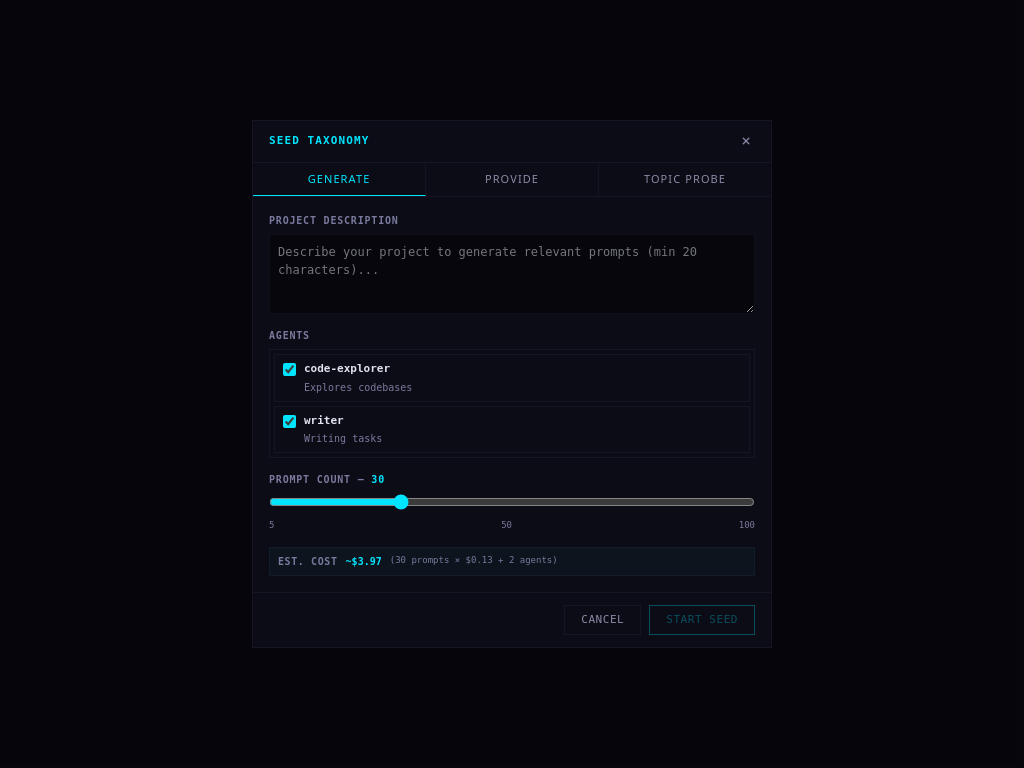
Test: SeedModal › accepts all seed_batch_progress events when no runId filter is set (pre-P3 behavior)
Expected: the text "code-explorer" is shown, x1=304 y1=362 x2=390 y2=375
Step 1. Type "Refactor taxonomy substrate to RunRow contract" into the text box labelled "PROJECT DESCRIPTION" → (512, 274), box x1=269 y1=234 x2=755 y2=314
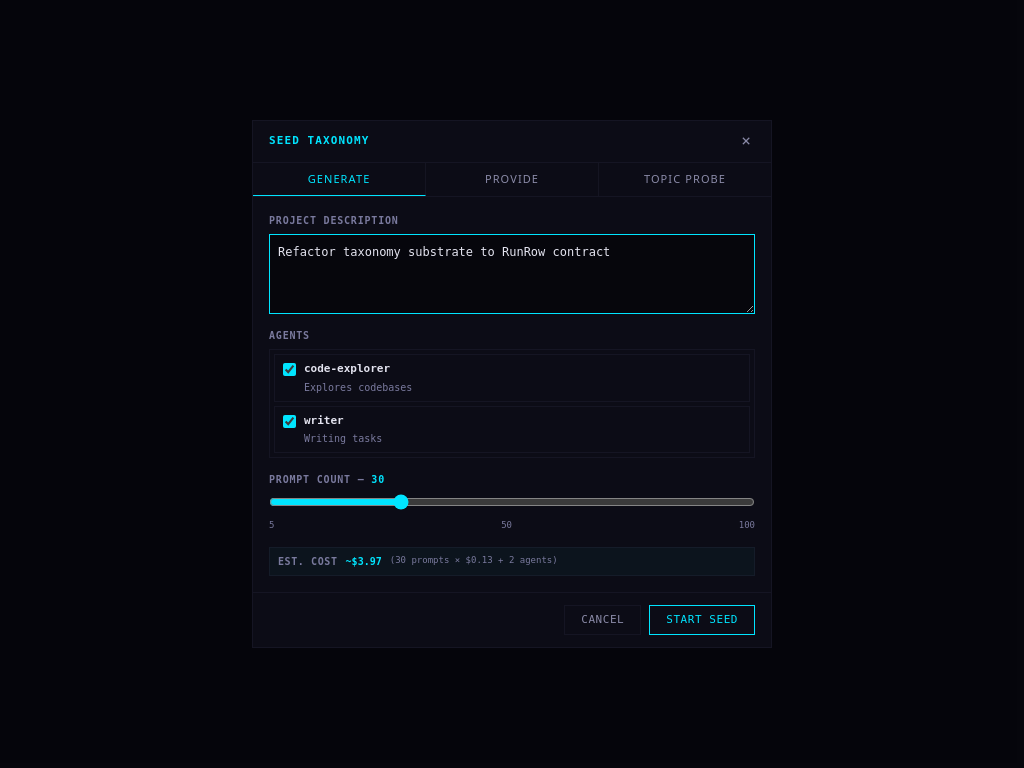
Step 2. Click the button "Start Seed" → (702, 620), box x1=649 y1=604 x2=755 y2=635
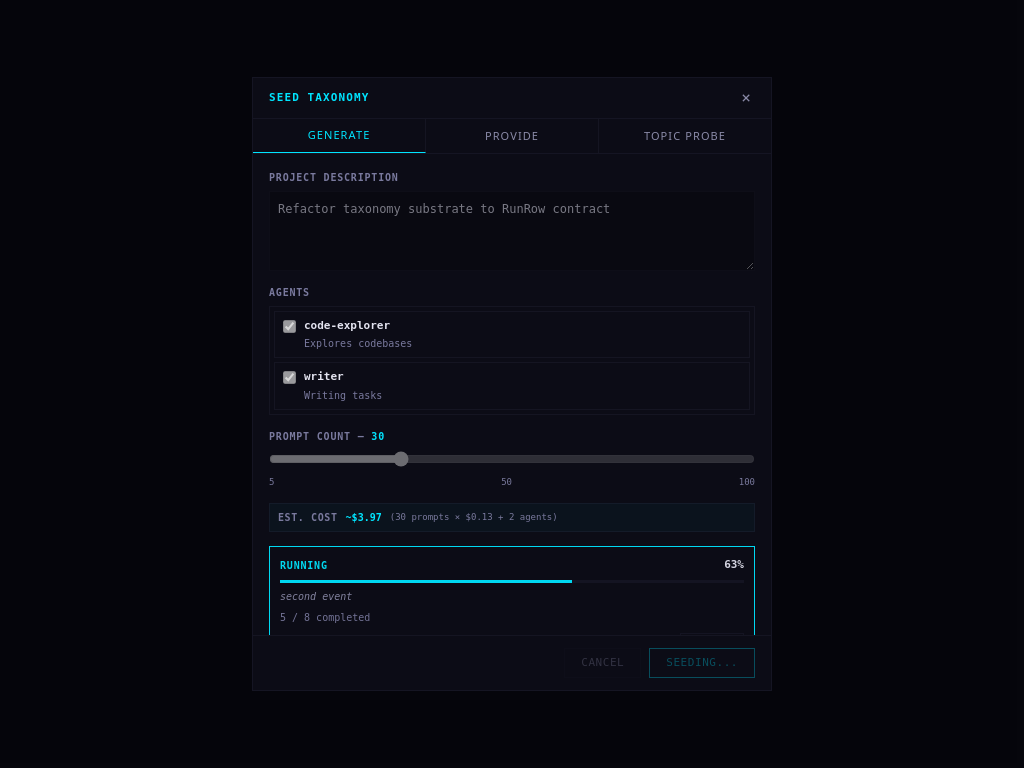
Expected: the text "RUNNING" is shown, x1=280 y1=558 x2=328 y2=573
Expected: the text "5 / 8 completed" is shown, x1=280 y1=612 x2=370 y2=623
Expected: the text "second event" is shown, x1=280 y1=591 x2=352 y2=602
